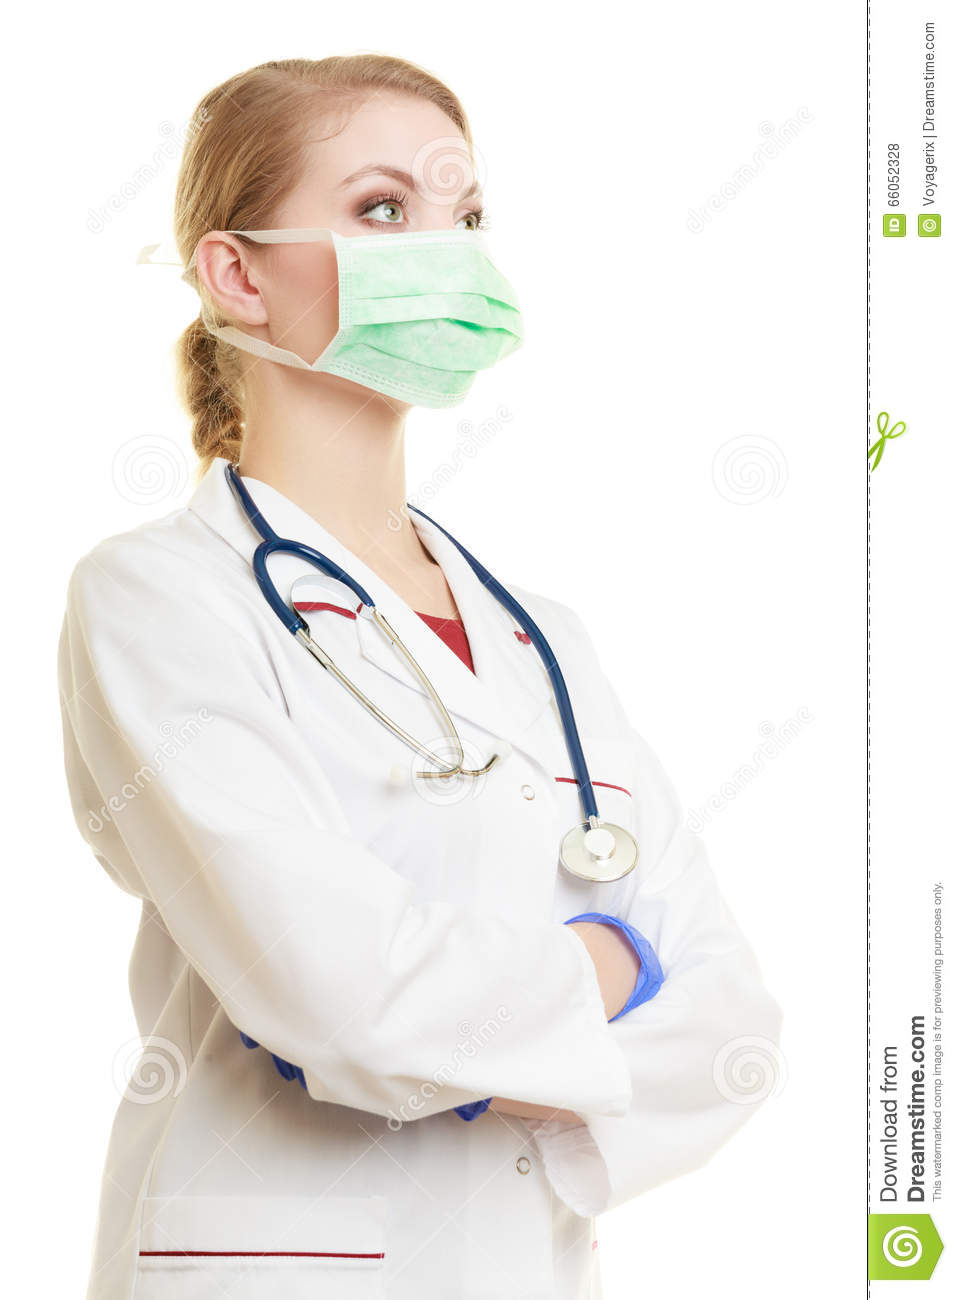mask: (290, 225, 536, 397)
